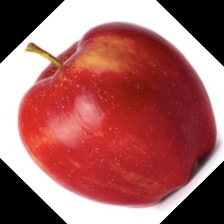apple: (39, 30, 195, 199)
